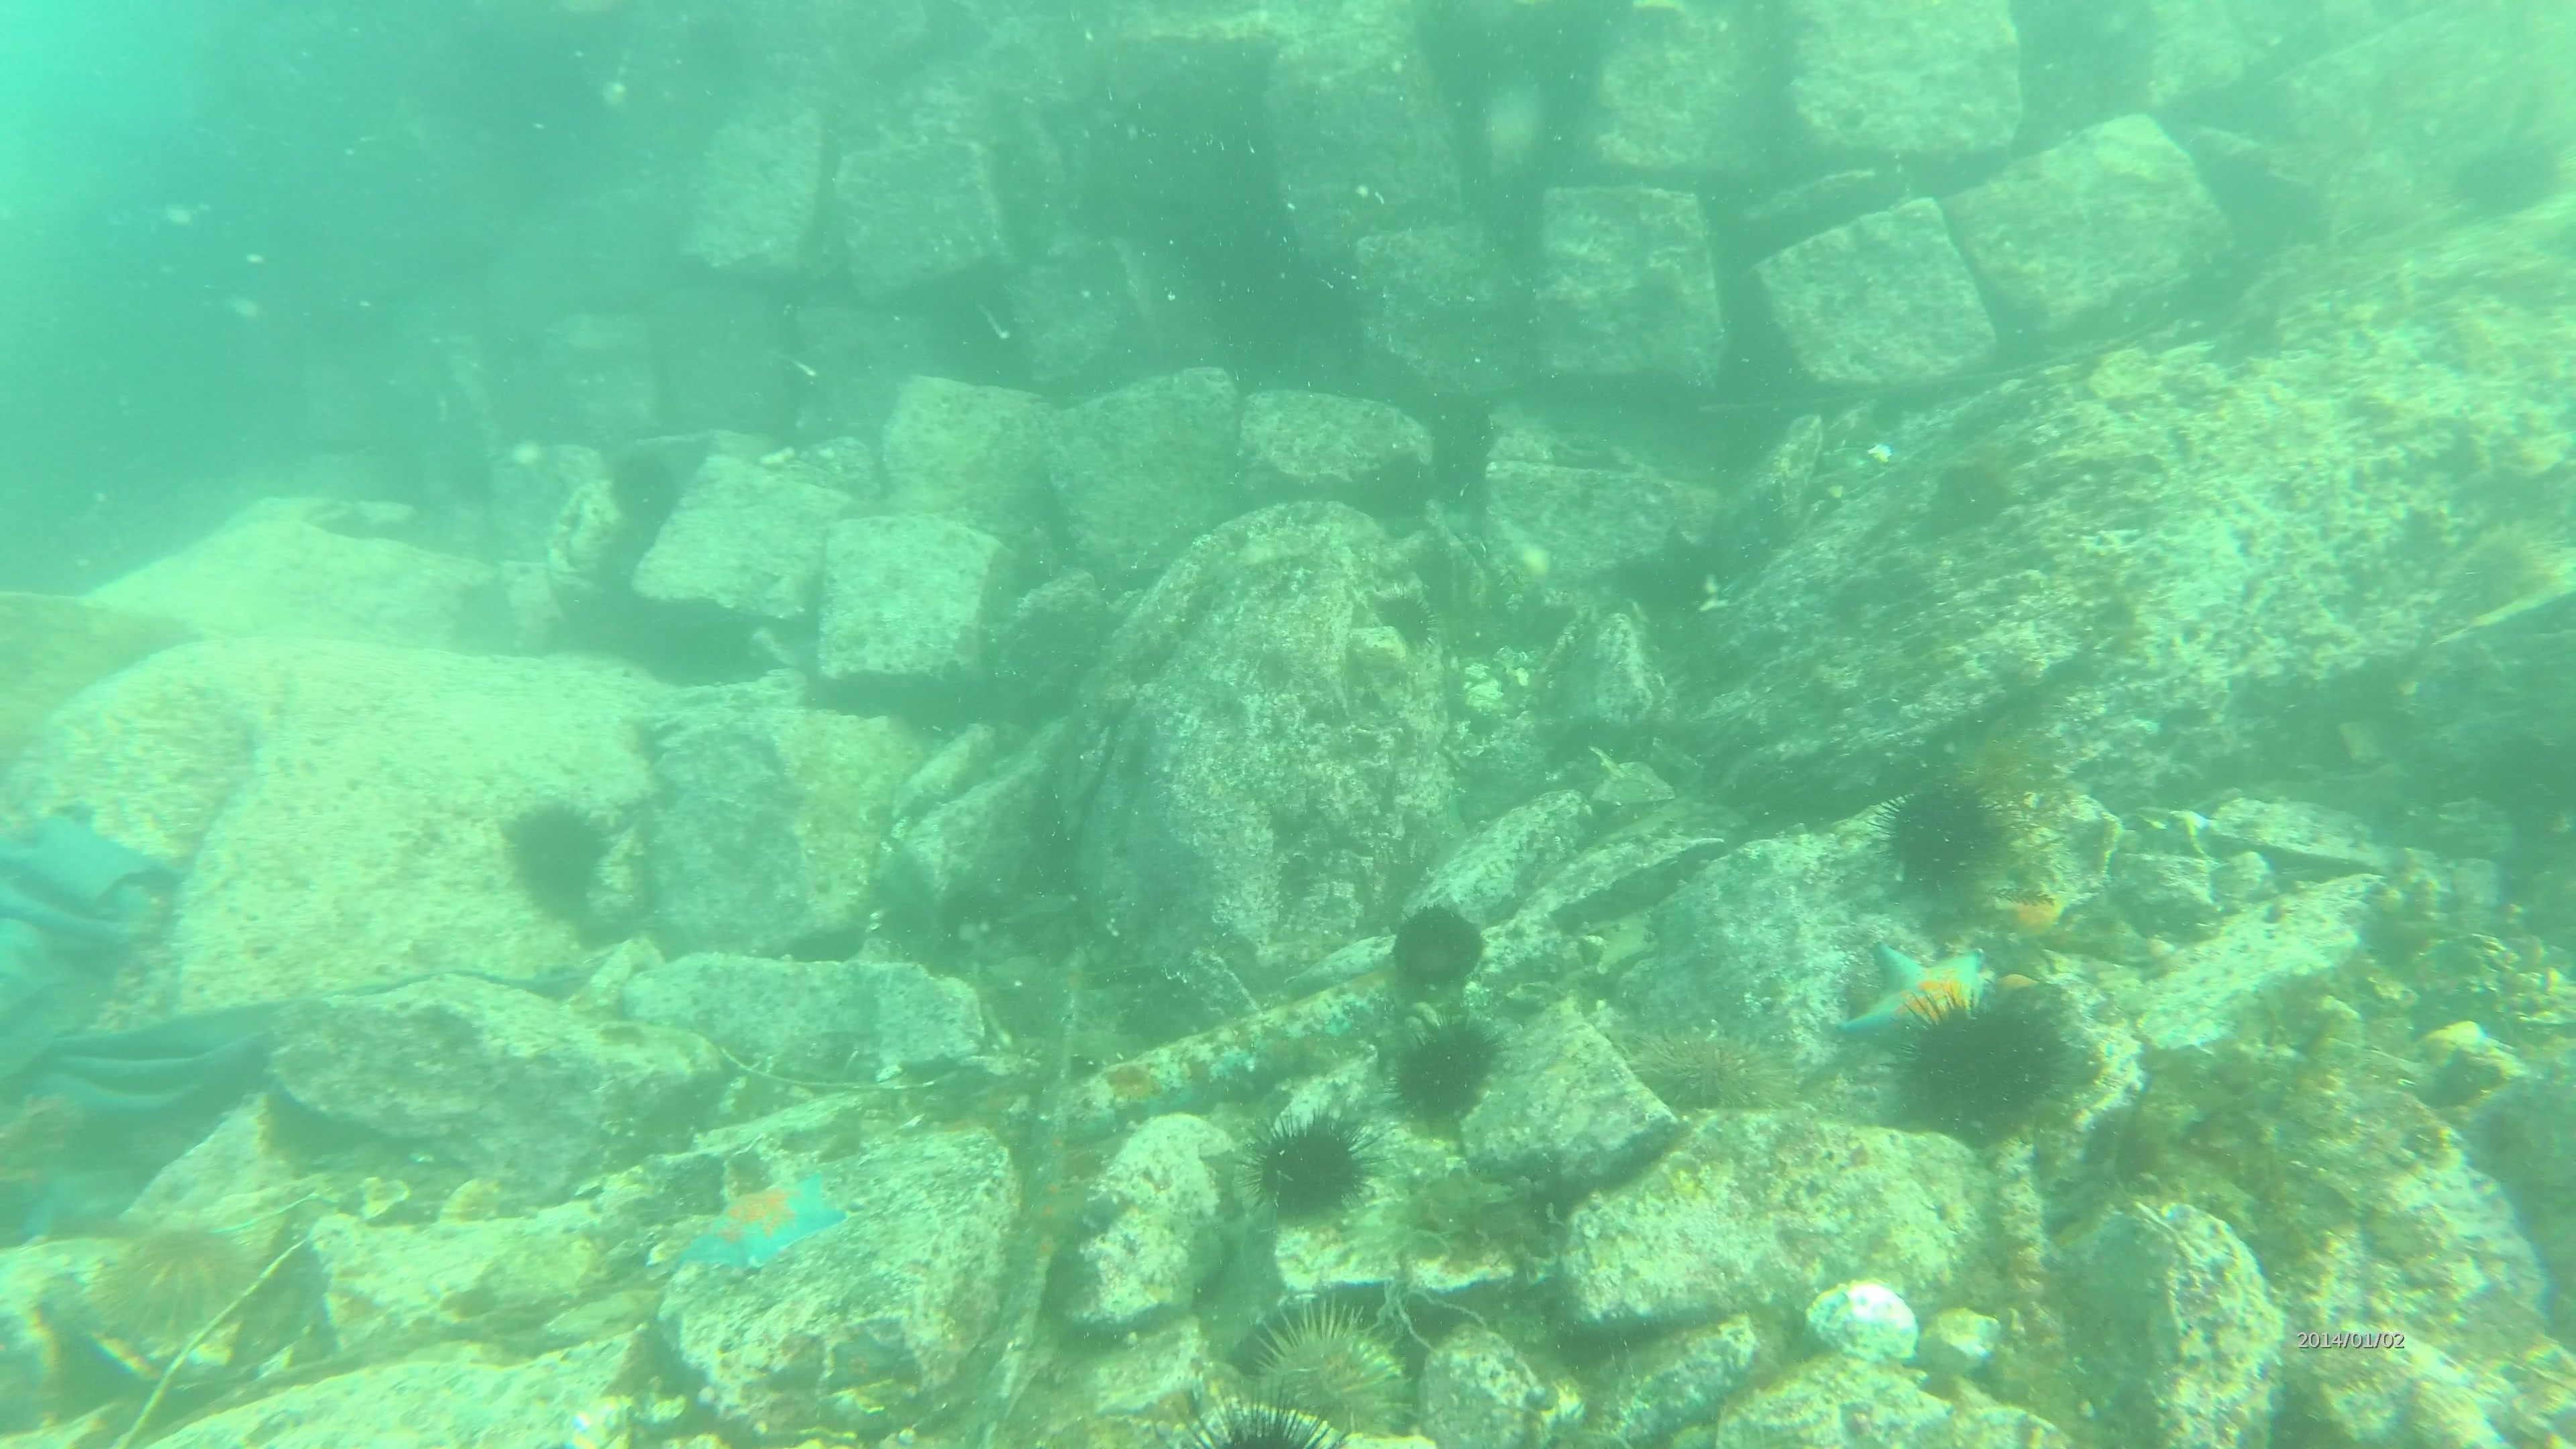echinus: (1895, 989, 2077, 1143), (1240, 1299, 1419, 1440), (92, 1208, 255, 1341), (1629, 1017, 1790, 1123), (1244, 1108, 1375, 1228), (1875, 775, 2006, 895), (497, 794, 619, 920), (1384, 1012, 1506, 1131), (2449, 508, 2571, 623), (2440, 127, 2564, 228), (1382, 895, 1491, 1000), (600, 441, 692, 536), (1923, 451, 2019, 538), (1189, 1389, 1339, 1444)
starfish: (667, 1162, 851, 1284), (1835, 934, 2003, 1063), (1990, 879, 2074, 954)
